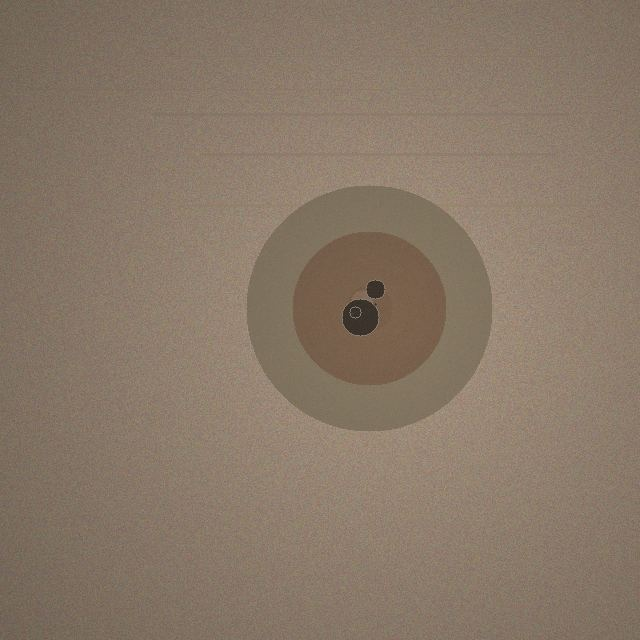shrinkage: (246, 185, 492, 431)
